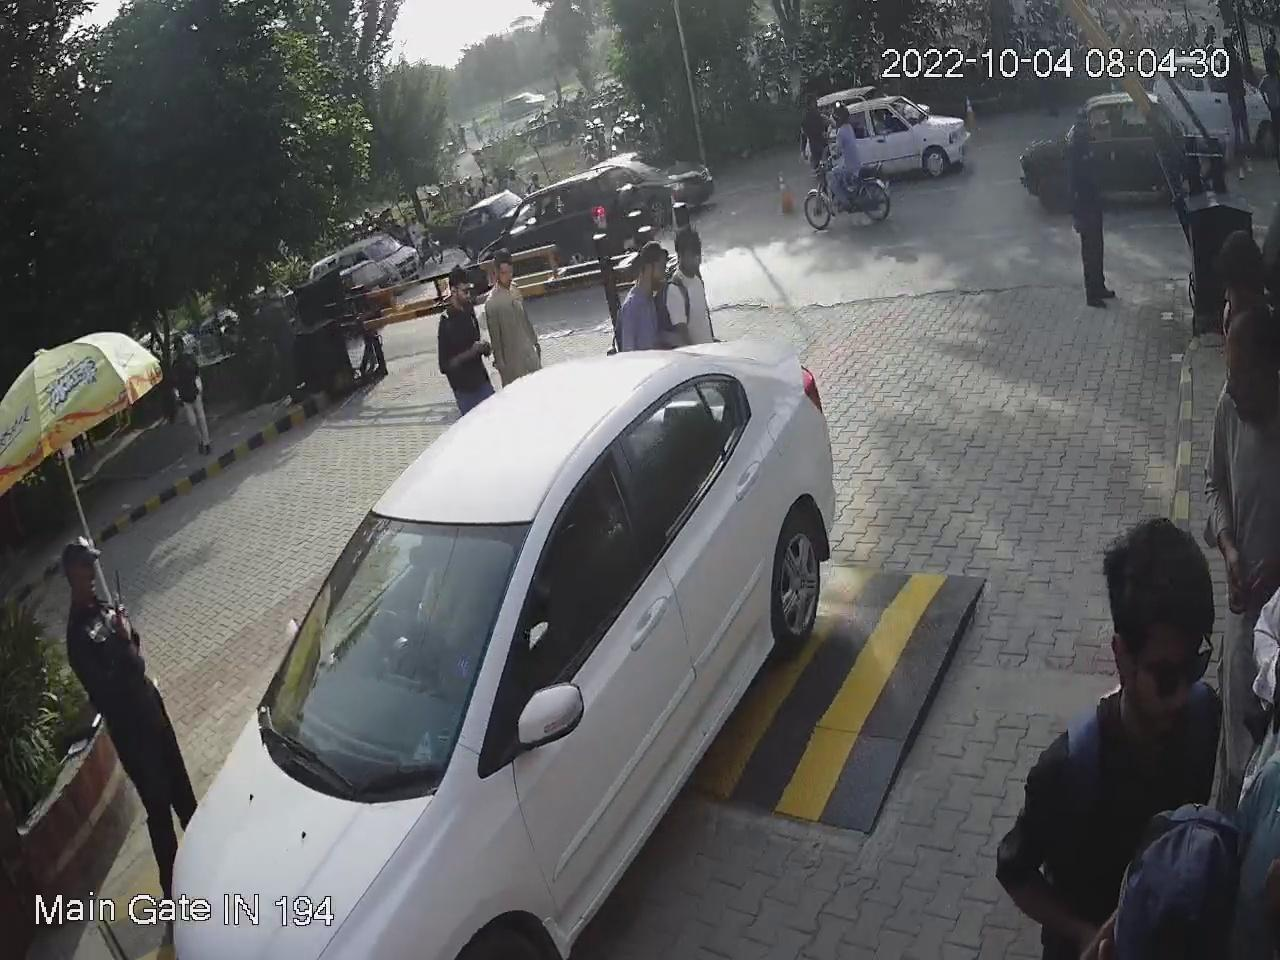windshield: (251, 502, 525, 803)
